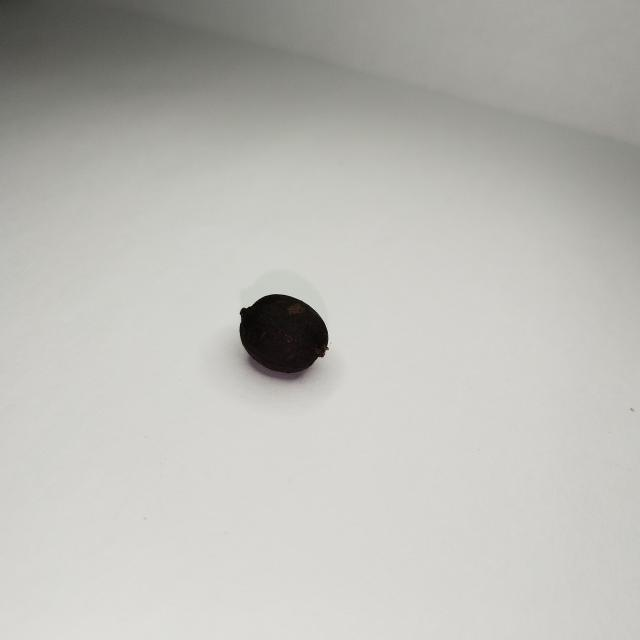Danado: (240, 295, 329, 375)
